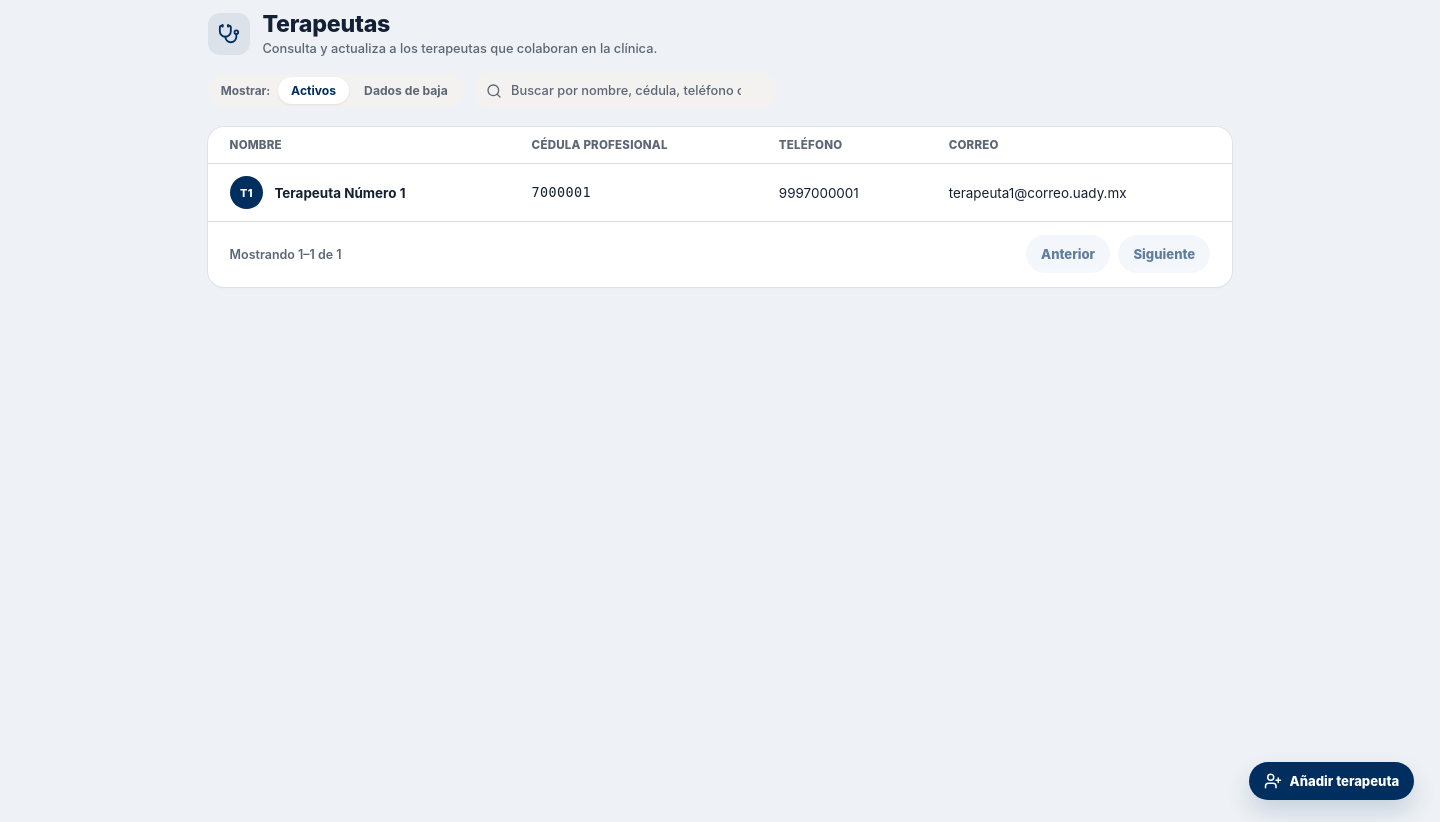
filtro de terapeutas dados de baja (EDT 4.3.5) › al elegir "Dados de baja" consulta estado=inactivos y marca cada fila
expect the text "Terapeuta Número 1" is shown: met, box [274,185,406,201]
Click the button "Dados de baja" at point(406, 90), box [351,77,460,104]
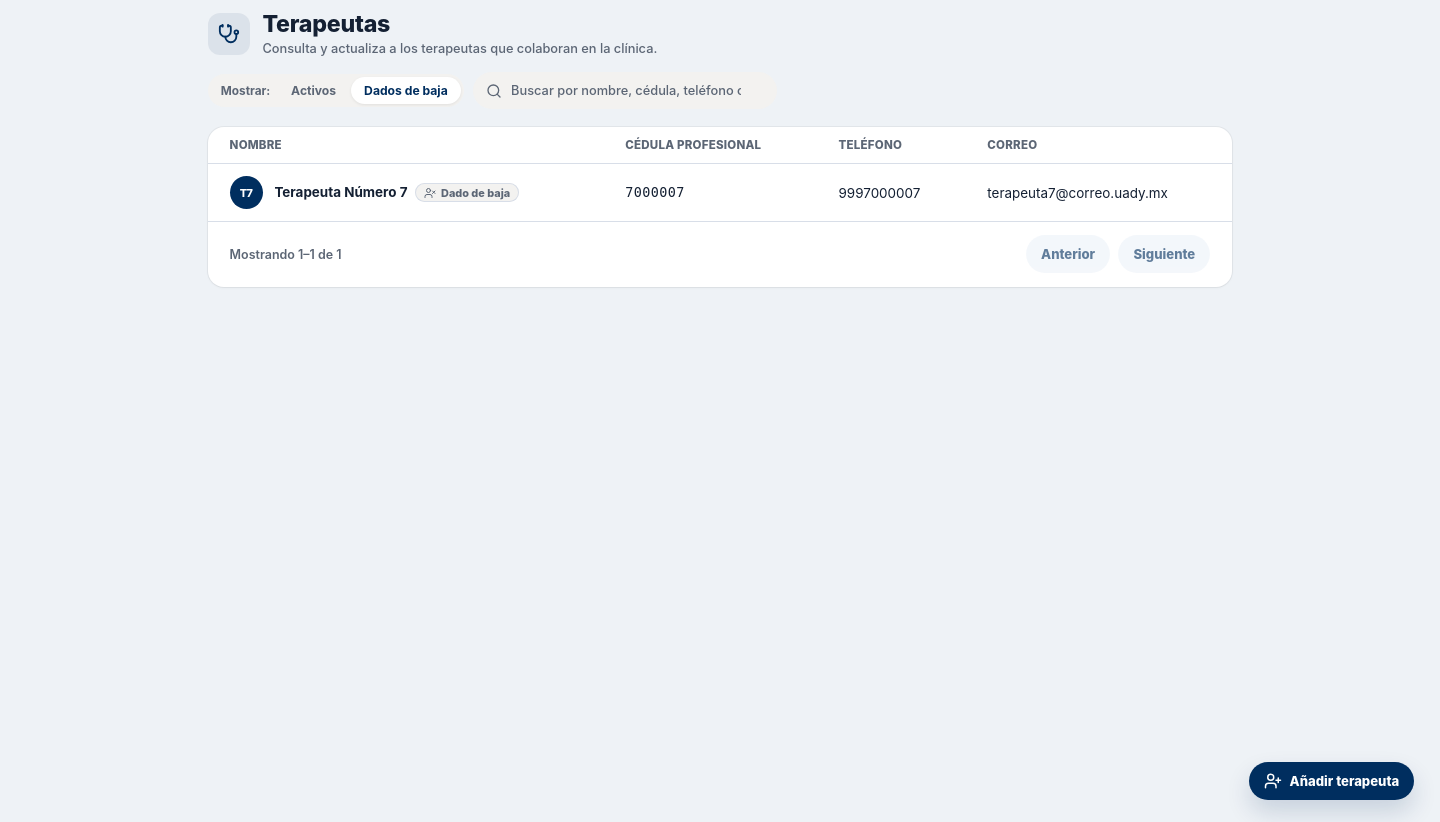
expect the text "Terapeuta Número 7" is shown: met, box [274,183,408,199]
expect the text "Dado de baja" is shown: met, box [416,183,519,202]
